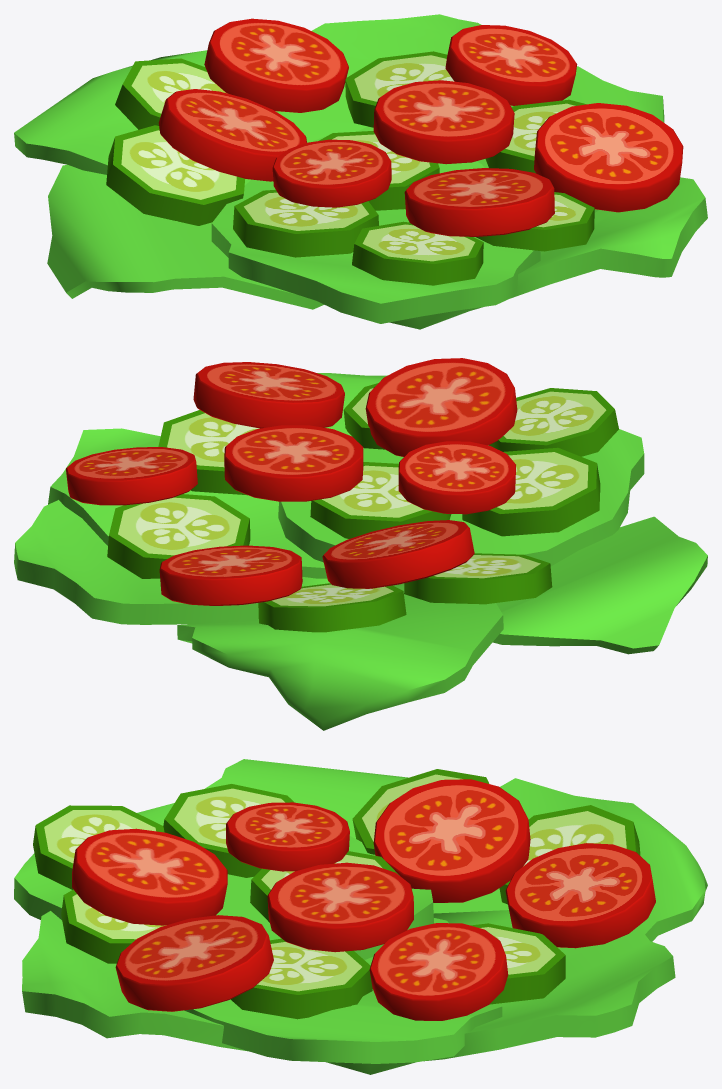
File: SM_Lettuce-Tomato-Cucumber_Salad.fbx
3 views of the same model, one above another, from view 1: azimuth 30°, elevation 25°; view 2: azimuth 150°, elevation 25°; view 3: azimuth 270°, elevation 25° (orthographic). The views are drawn at different scales.
Parts seen in each view (by area): view 1: Tomato-Cucumber-Lettuce_Salad; view 2: Tomato-Cucumber-Lettuce_Salad; view 3: Tomato-Cucumber-Lettuce_Salad.
Boxes of the visible parts, x1,y1,x2,y2 form: Tomato-Cucumber-Lettuce_Salad: (14, 14, 707, 329); Tomato-Cucumber-Lettuce_Salad: (14, 358, 707, 730); Tomato-Cucumber-Lettuce_Salad: (14, 759, 707, 1074).
Size of the model in its own units: 156 by 38.13 by 153.
